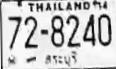0: (97, 13, 111, 45)
2: (24, 15, 37, 48), (66, 14, 79, 47)
4: (82, 13, 95, 45)
7: (7, 15, 21, 49)
8: (50, 14, 64, 46)
SRI: (42, 51, 78, 66)
